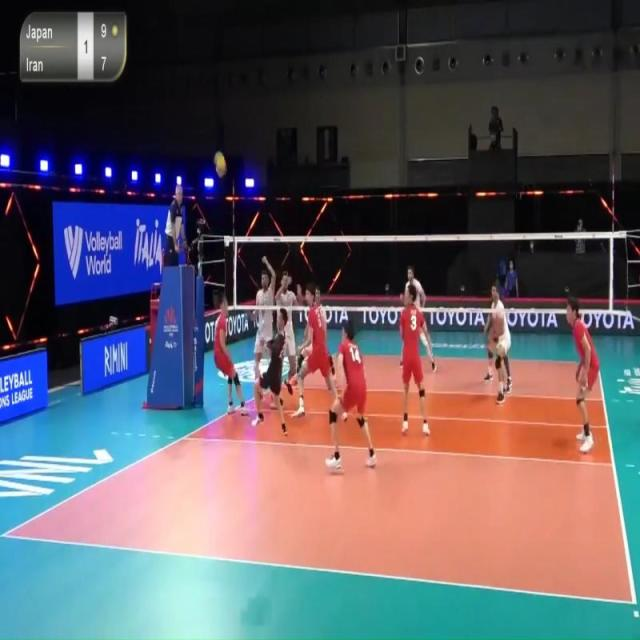volleyball: (213, 152, 227, 178)
